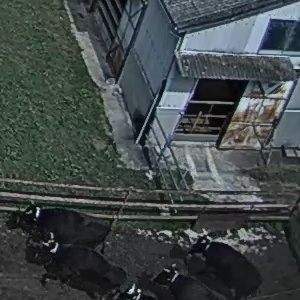cow: (30, 235, 128, 300), (179, 228, 274, 295), (7, 197, 120, 244), (148, 259, 205, 298)
